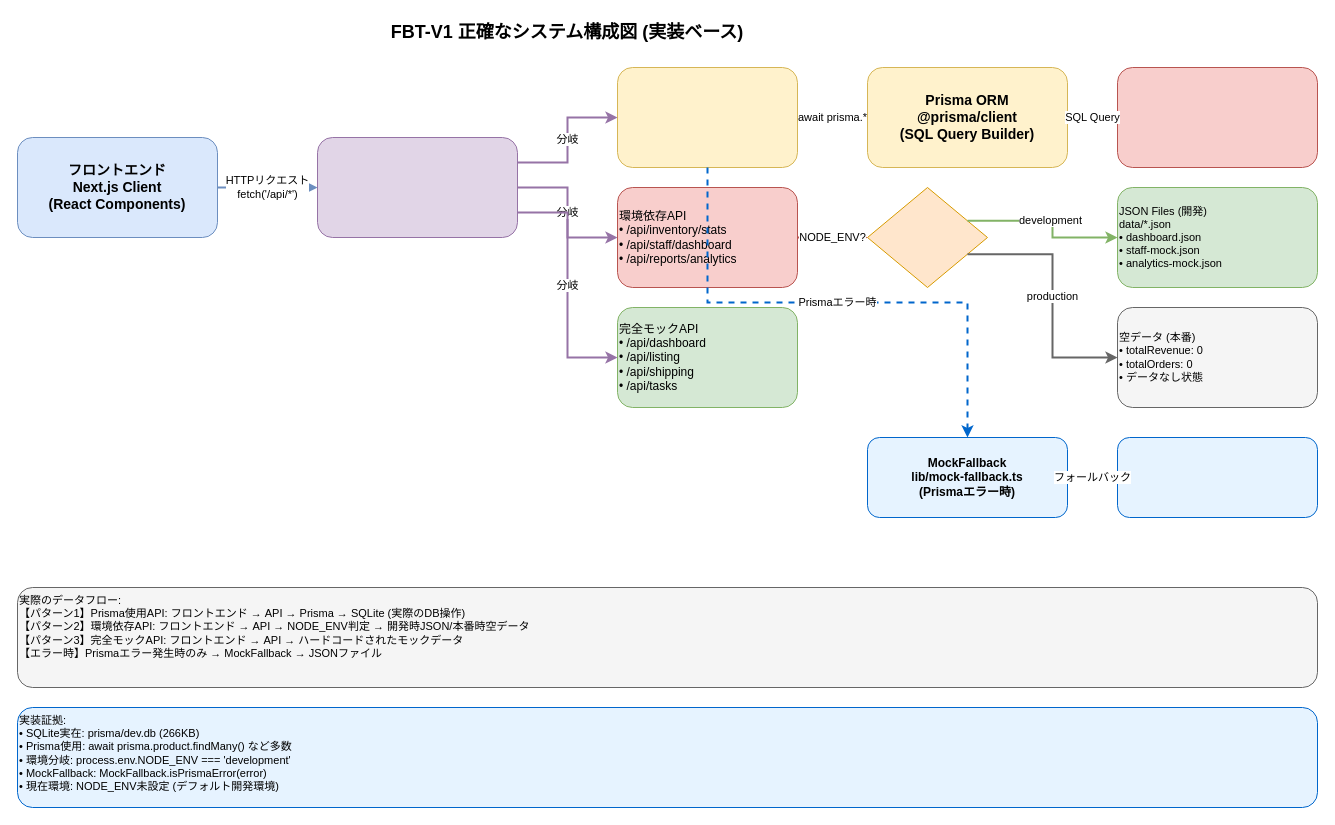
The diagram is 1335 pixels wide and 825 high, and some of its shapes have lost their labels. Each missing label, with the centre of its shape:
"API Layer Next.js API Routes (/app/api/*)" goes at (x=417, y=187).
"JSON Files (エラー時) data/*.json フォールバック用" goes at (x=1217, y=477).
"NODE_ENV Check development?" goes at (x=927, y=237).
"Prisma使用API • /api/inventory • /api/locations • /api/orders • /api/products/*" goes at (x=707, y=117).
"SQLite Database prisma/dev.db (266KB, 実在)" goes at (x=1217, y=117).
